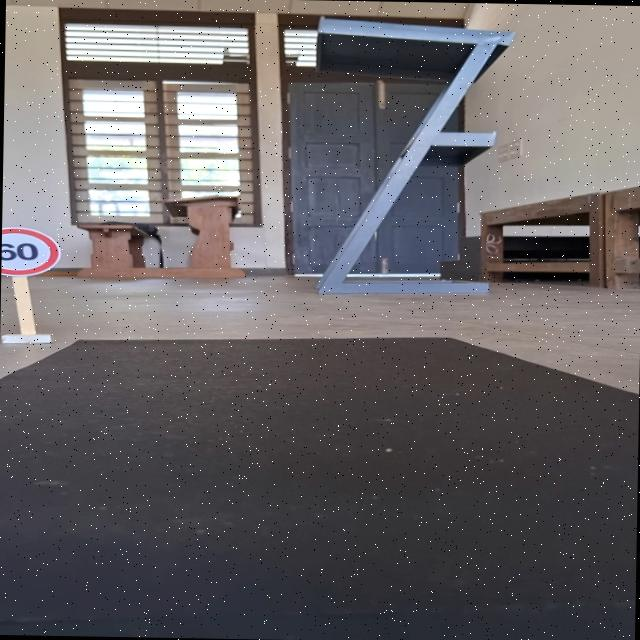Speed60: (1, 224, 62, 276)
